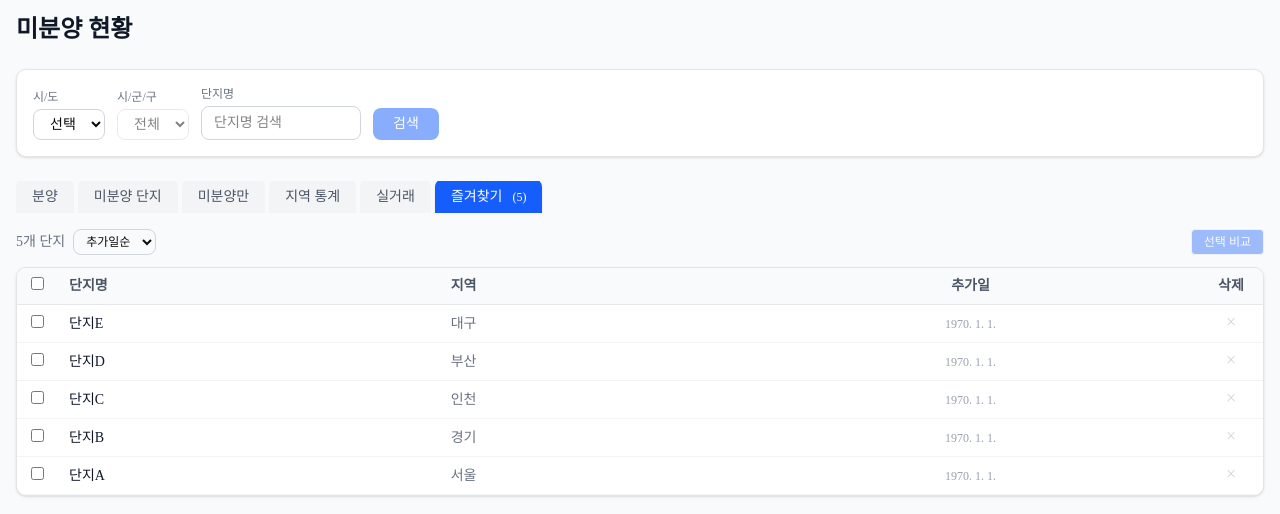
미분양 메인 — 즐겨찾기 일괄 비교 › 최대 4개까지만 선택 가능하다
Step 1. Click the checkbox named "단지E 선택" → [37, 321], box [30,314,44,328]
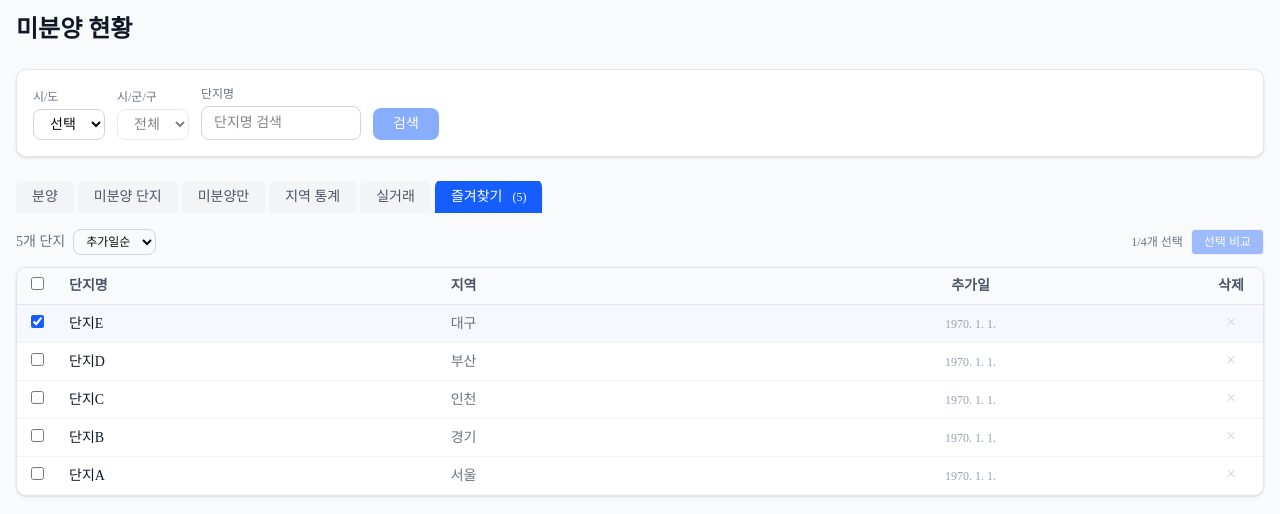
Step 2. Click the checkbox named "단지D 선택" → [37, 359], box [30,352,44,366]
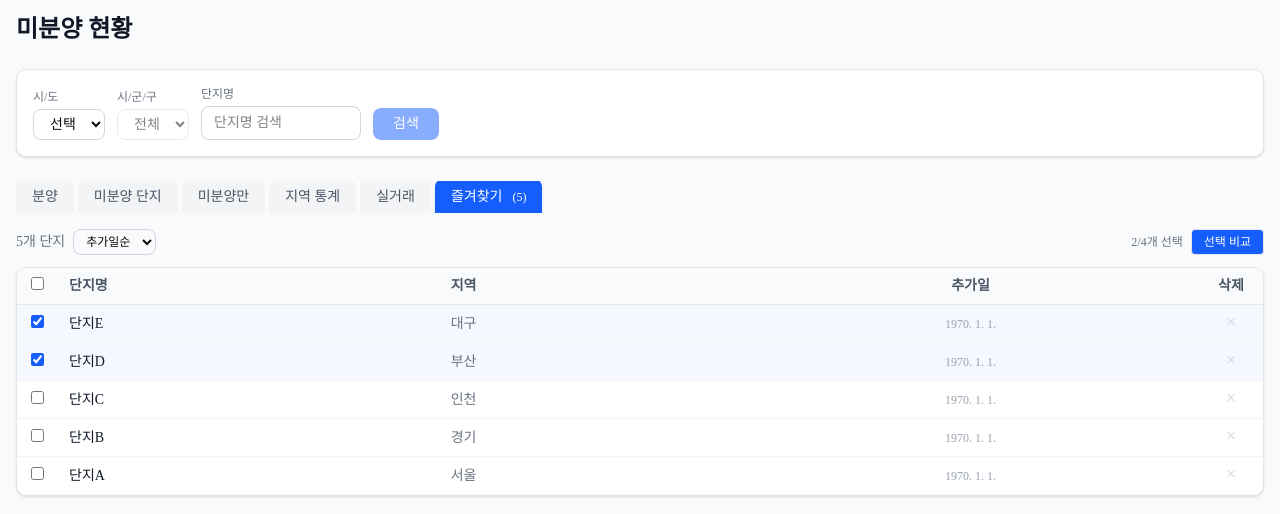
Step 3. Click the checkbox named "단지C 선택" → [37, 397], box [30,390,44,404]
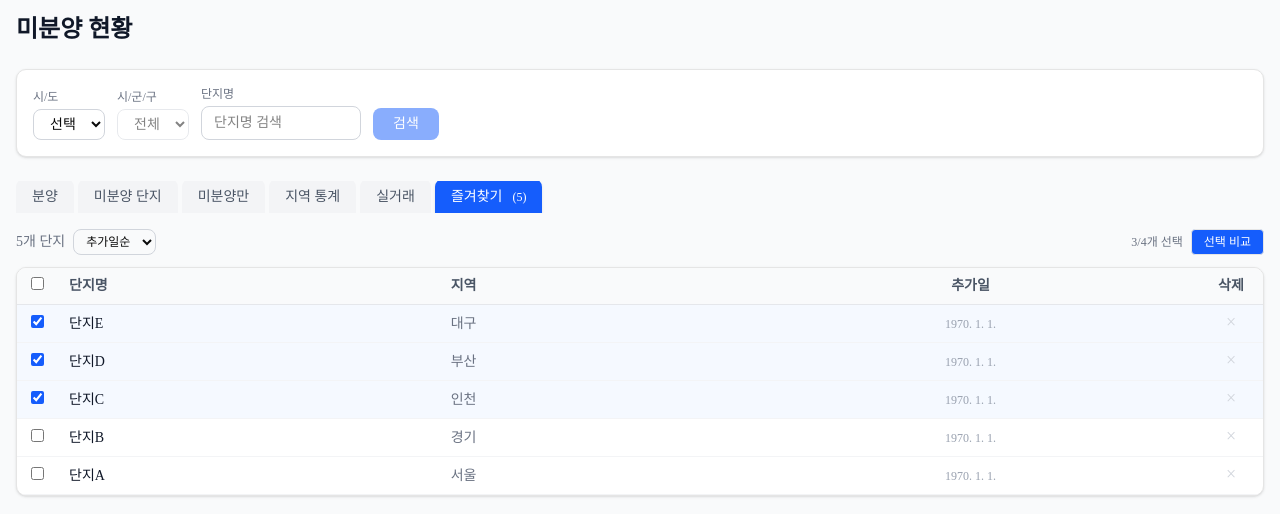
Step 4. Click the checkbox named "단지B 선택" → [37, 435], box [30,428,44,442]
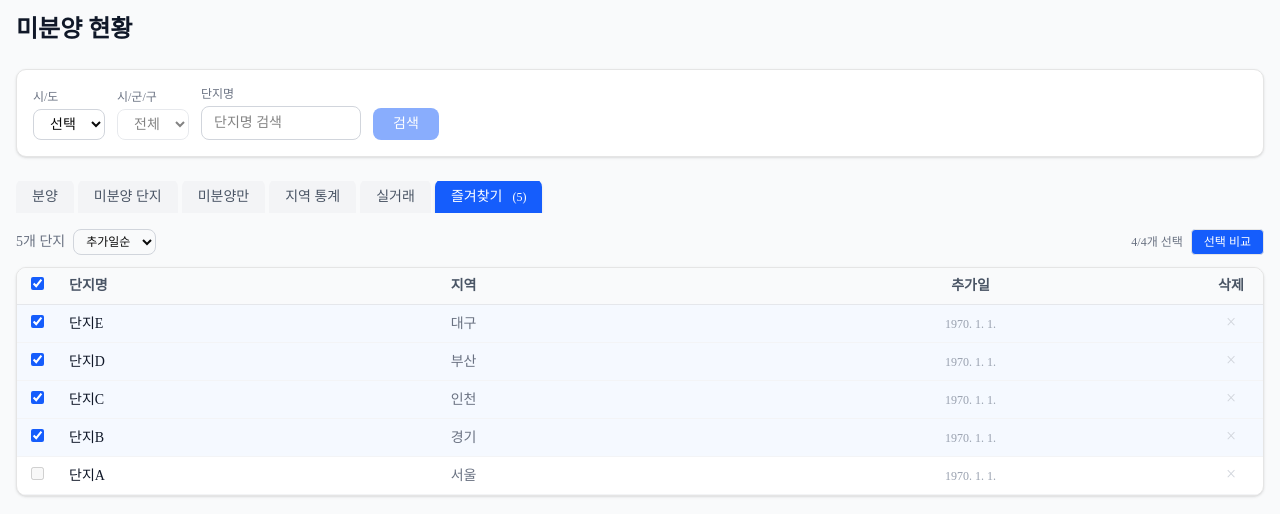
Expected: the checkbox named "단지A 선택" is disabled, [30,466,44,480]
Expected: the text "4/4개 선택" is shown, [1131,234,1183,250]
